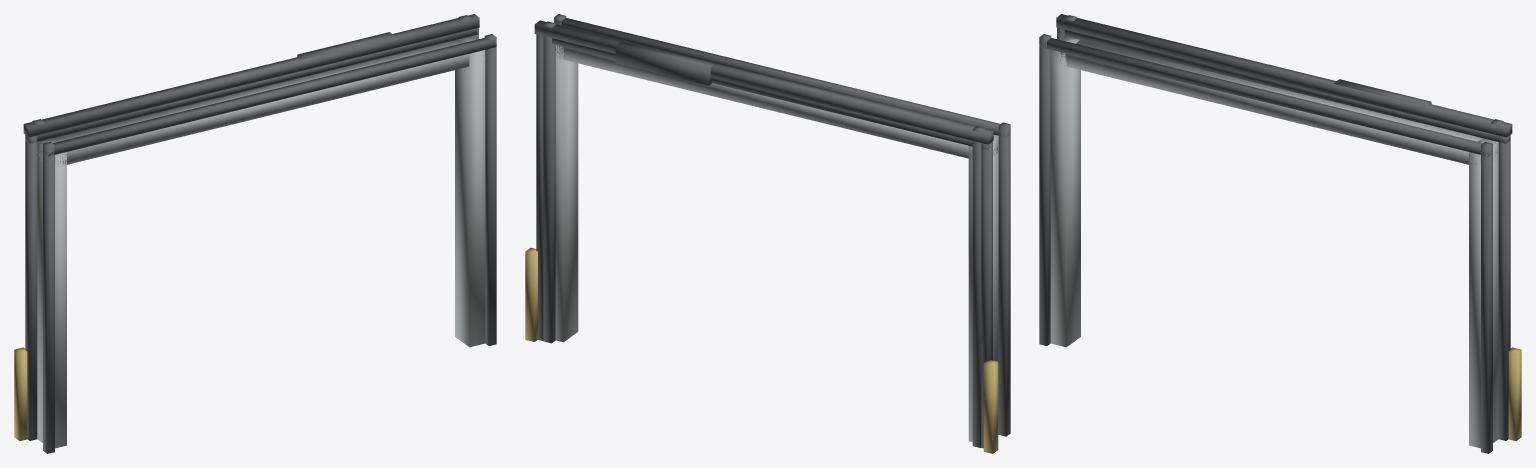
Rendered from bay_opening_loading_bay_w480_h320_d30.glb.
3 renders of one model, left to right at view 1: azimuth 30°, elevation 25°; view 2: azimuth 150°, elevation 25°; view 3: azimuth 330°, elevation 25°, orthographic.
Visible parts, largest first — view 1: world; view 2: world; view 3: world.
Boxes of the visible parts, left/top/right/bottom form: world: left=14, top=14, right=496, bottom=453; world: left=525, top=14, right=1010, bottom=453; world: left=1039, top=14, right=1521, bottom=453.
Bounding box in the file's own units: 5.54 × 3.59 × 0.522.
